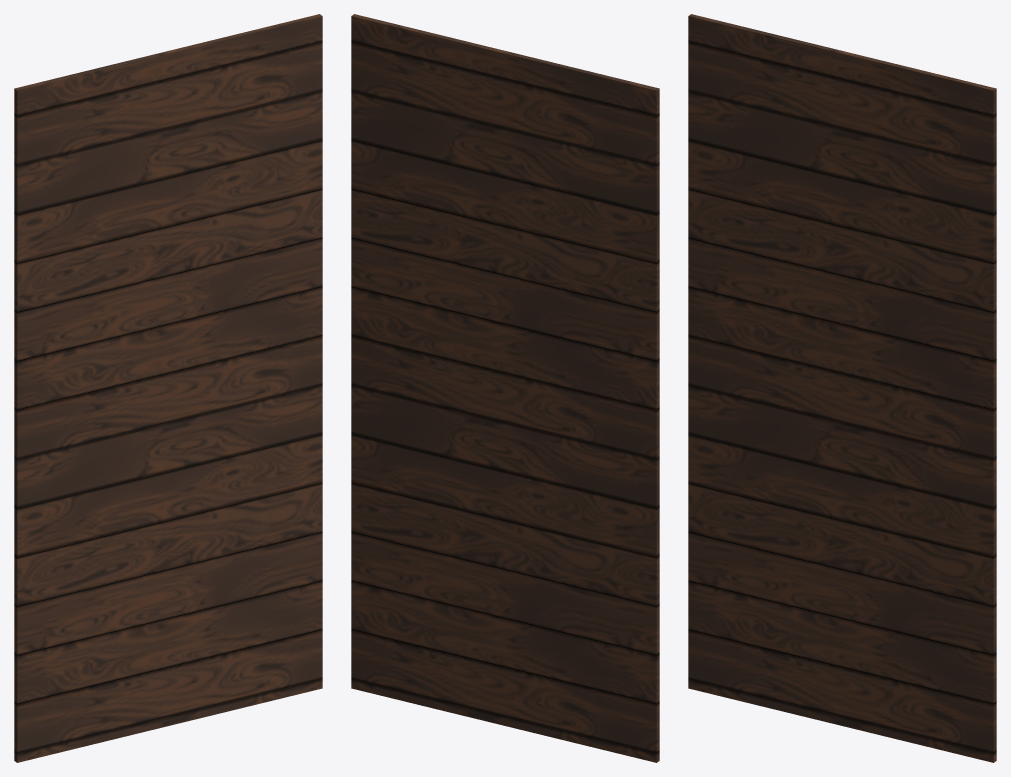
File: wall_gm.fbx
3 renders of one model, left to right at view 1: azimuth 30°, elevation 25°; view 2: azimuth 150°, elevation 25°; view 3: azimuth 330°, elevation 25°, orthographic.
Parts seen in each view (by area): view 1: Wall; view 2: Wall; view 3: Wall.
Boxes of the visible parts, x1,y1,x2,y2 form: Wall: (14, 14, 322, 762); Wall: (351, 14, 659, 762); Wall: (688, 14, 996, 762).
Size of the model in its own units: 2.85 by 6 by 0.0454.
